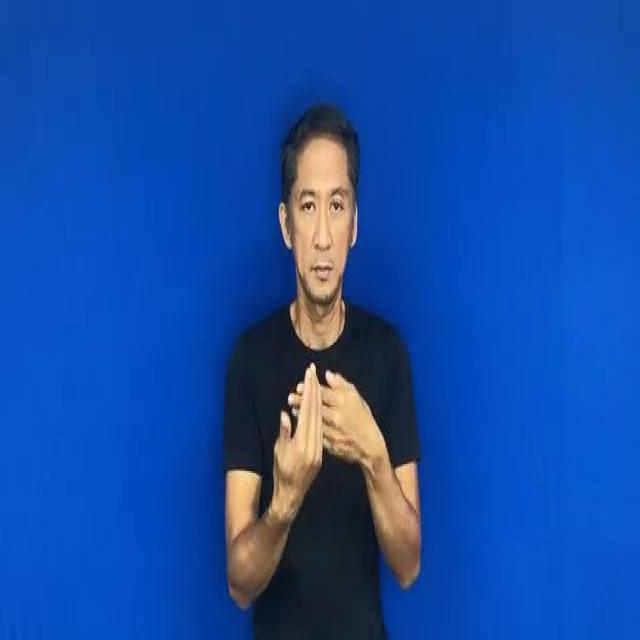bread: (266, 351, 398, 511)
